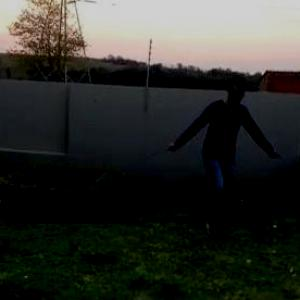land: (168, 68, 278, 229)
